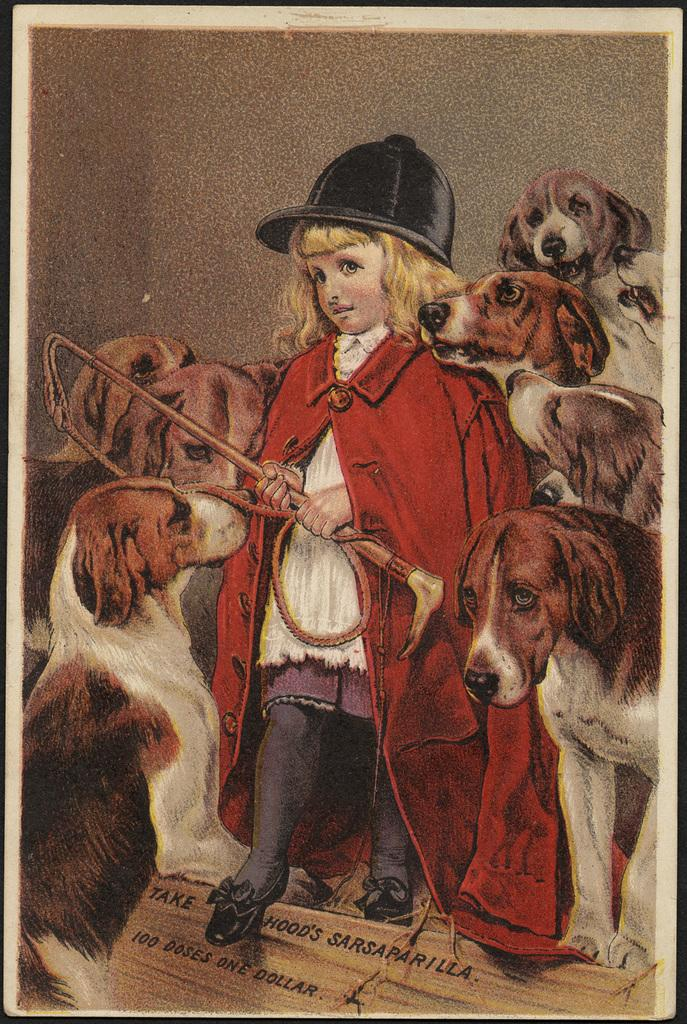Hat: (255, 127, 458, 272)
